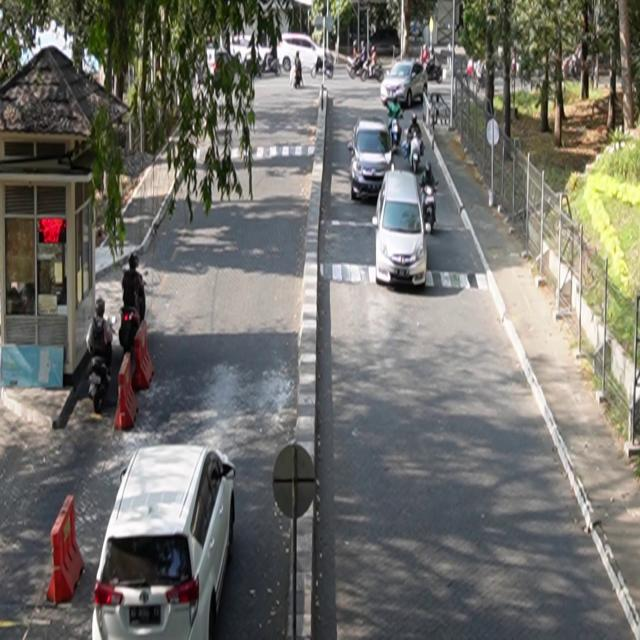car: (92, 444, 237, 640), (373, 170, 428, 288), (349, 118, 395, 201), (381, 60, 429, 109)
